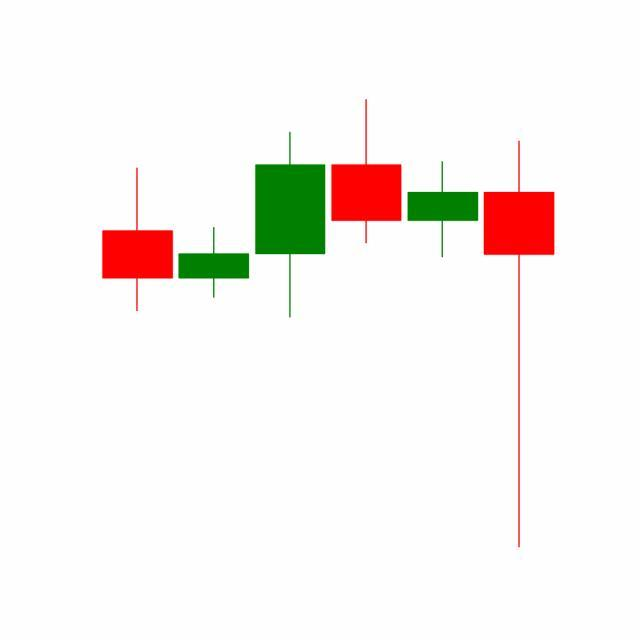Spinning Top: (404, 161, 482, 261)
